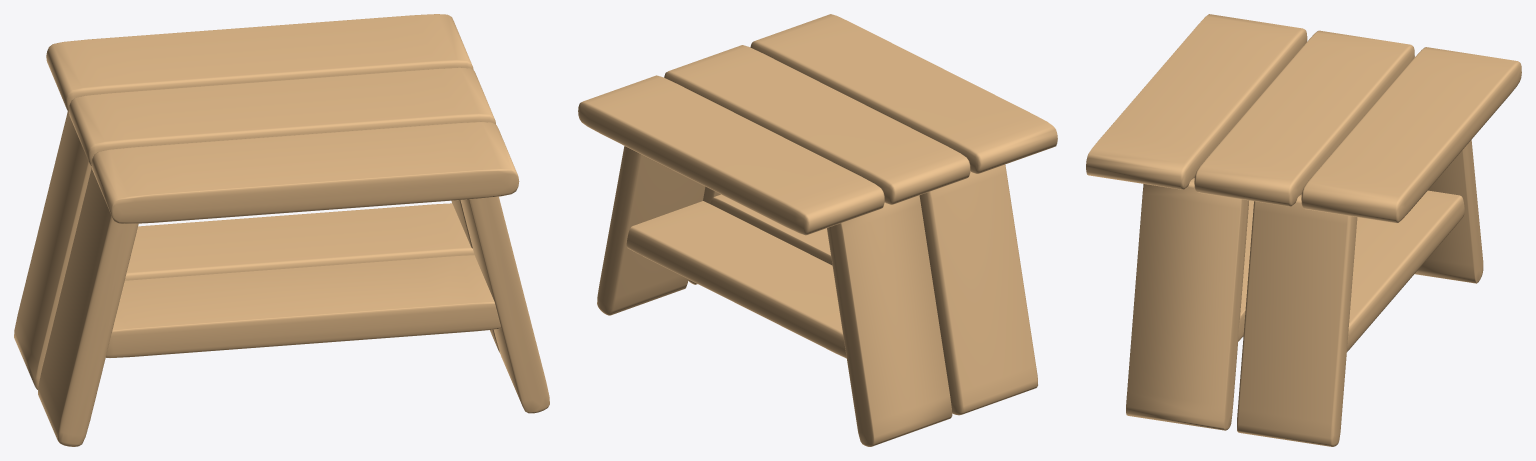
Rendered from Taburete.fbx.
The picture shows the model from 3 angles, left to right: view 1: azimuth 30°, elevation 25°; view 2: azimuth 150°, elevation 25°; view 3: azimuth 270°, elevation 25°; orthographic projection. The views are drawn at different scales.
Visible parts, largest first — view 1: Cube.003; view 2: Cube.003; view 3: Cube.003.
Part boxes in pixels (x1,y1,x2,y2): Cube.003: (14,14,549,446); Cube.003: (578,14,1057,446); Cube.003: (1086,14,1521,446).
Bounding box in the file's own units: 8.35 × 4.59 × 7.48.
